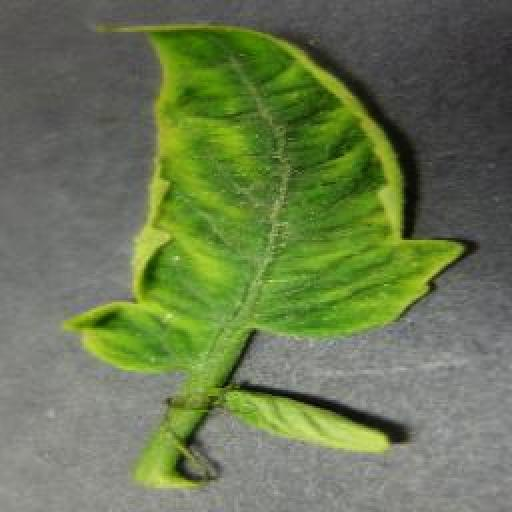disease_tomato: (60, 23, 466, 377), (221, 386, 399, 456)
